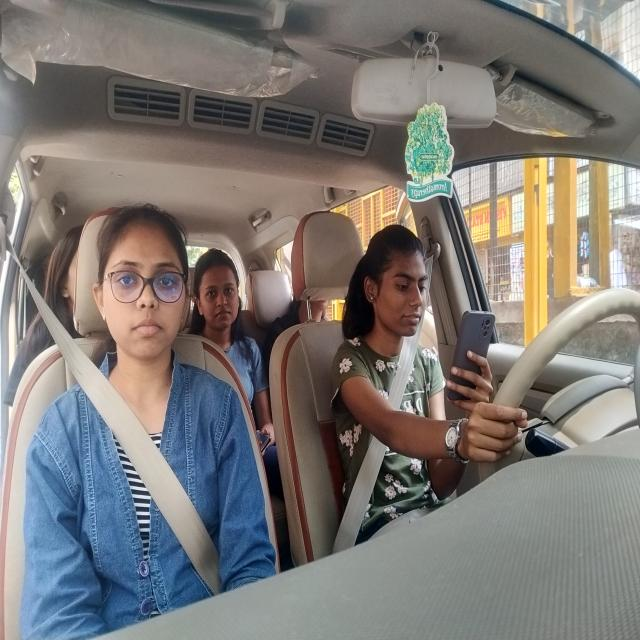mobile: (446, 305, 494, 403)
person: (94, 200, 191, 376), (361, 219, 429, 341), (195, 242, 242, 342)
